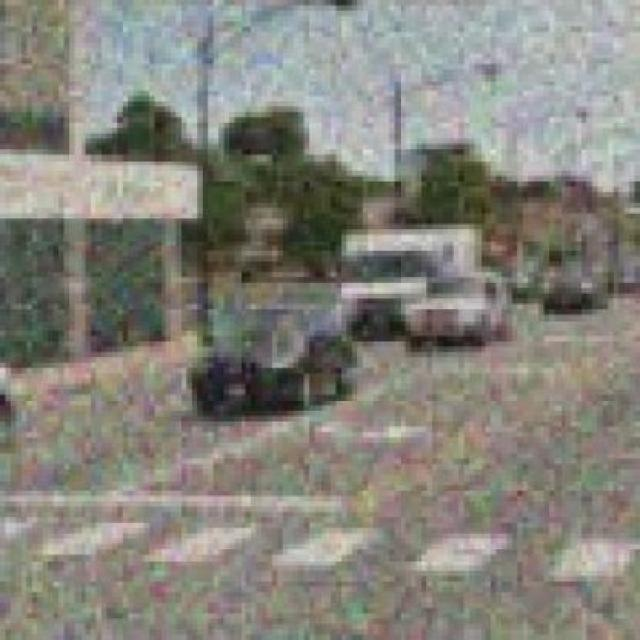crosswalk: (7, 515, 635, 585)
